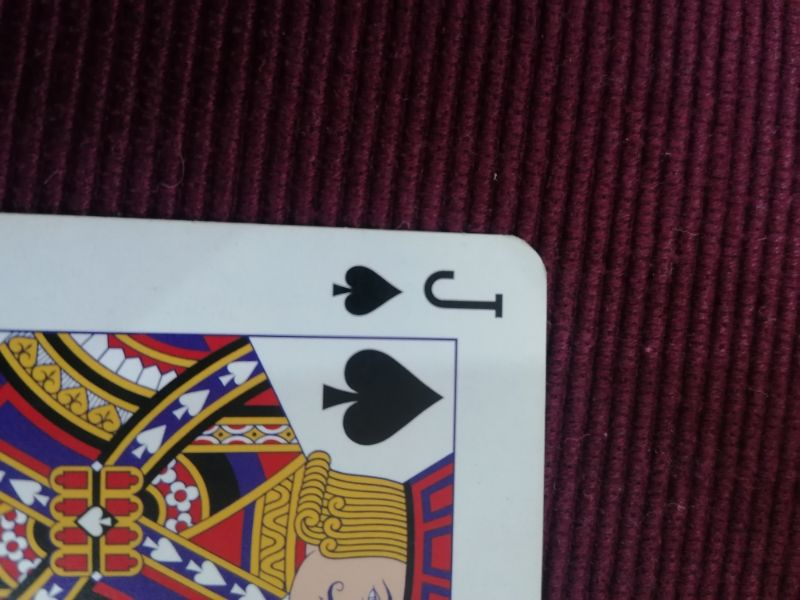Js: (328, 261, 511, 323)
